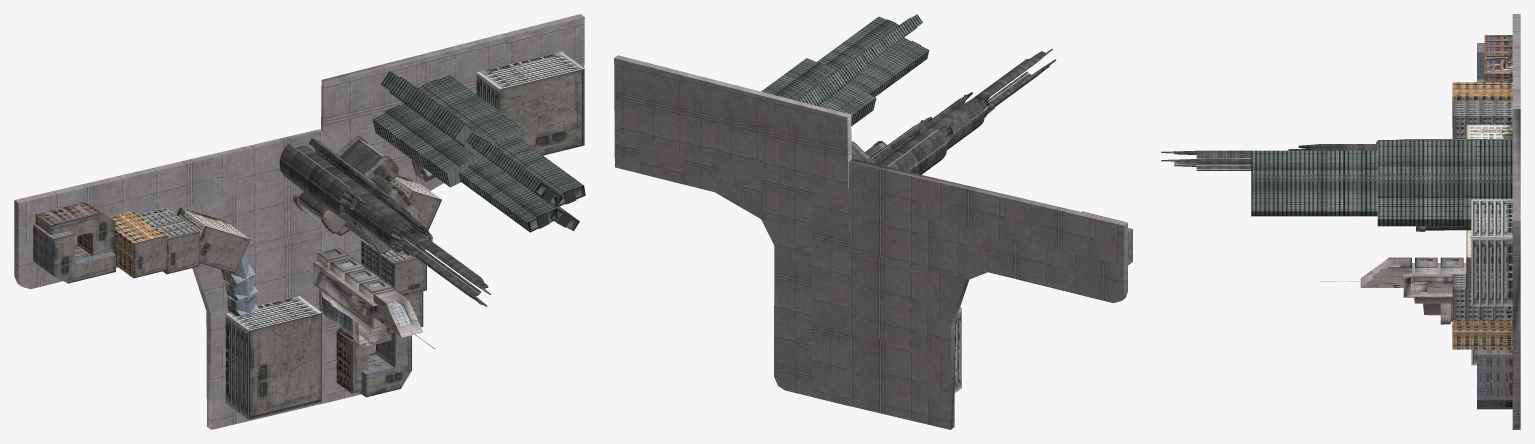
Rendered from buildings_one.obj.
3 views of the same model, side by side, from view 1: azimuth 30°, elevation 25°; view 2: azimuth 150°, elevation 25°; view 3: azimuth 270°, elevation 25° (orthographic). The views are drawn at different scales.
Parts seen in each view (by area): view 1: city_mesh01, bldgs2; view 2: city_mesh01, bldgs2; view 3: city_mesh01, bldgs2.
Part boxes in pixels (x1,y1,x2,y2): city_mesh01: (14,14,585,429); bldgs2: (279,136,490,306); city_mesh01: (614,14,1132,429); bldgs2: (851,48,1055,174); city_mesh01: (1251,14,1520,429); bldgs2: (1161,139,1512,231).
Bounding box in the file's own units: 282 × 154 × 171.
4 materials, 4 textured.
